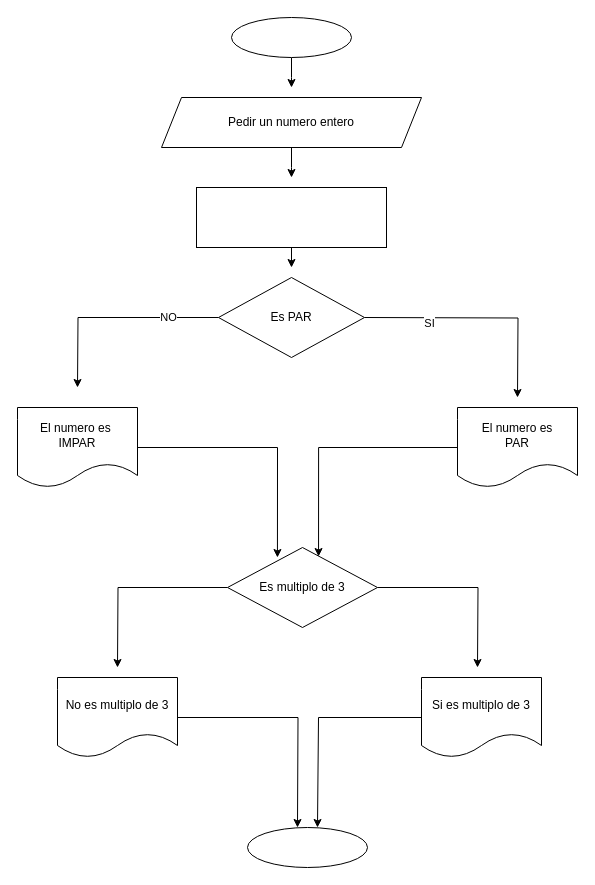
Image size: 595x885. Some labels were removed from this diagram. The centre of each missing label's shape, as x and y in pixels:
FIN: the point at 307,847
INICIO: the point at 291,37
numero= %2==0: the point at 291,217
